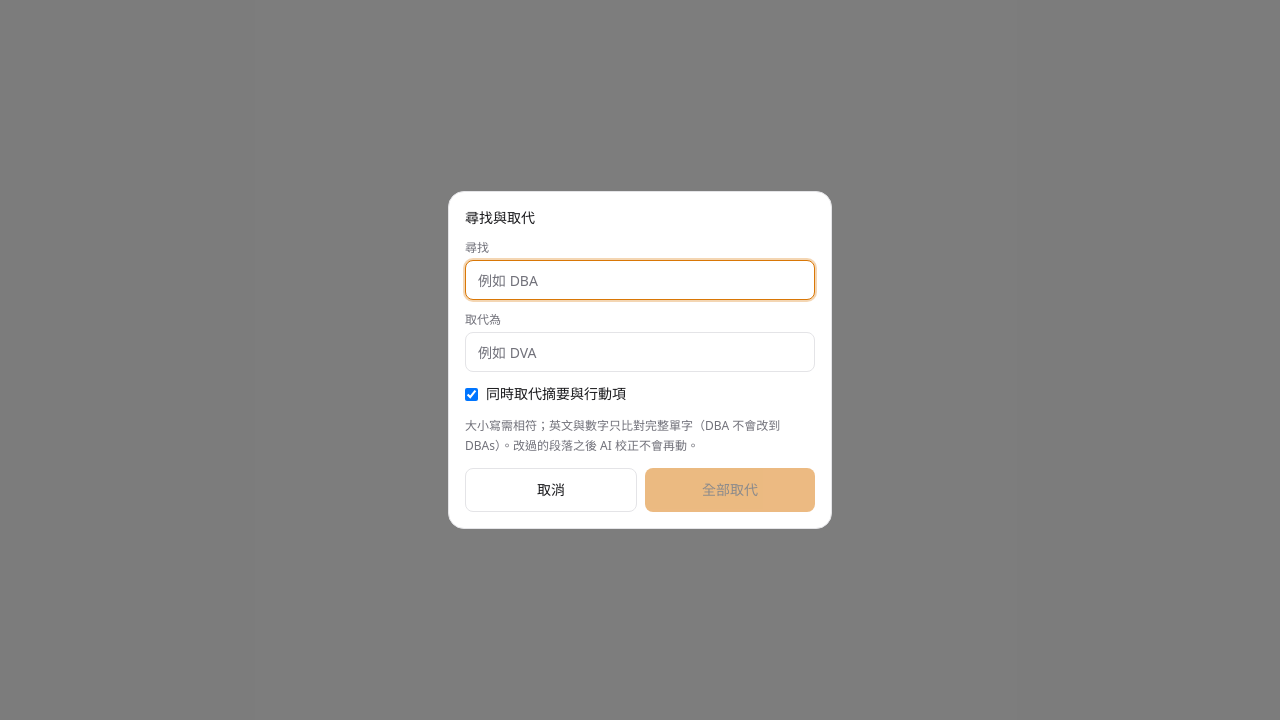
Test case: TranscriptReplaceSheet › 沒有符合時顯示提示且不能送出
Step 1. Type "XYZ" into the field labelled "尋找" → (640, 280), box [465,260,815,300]
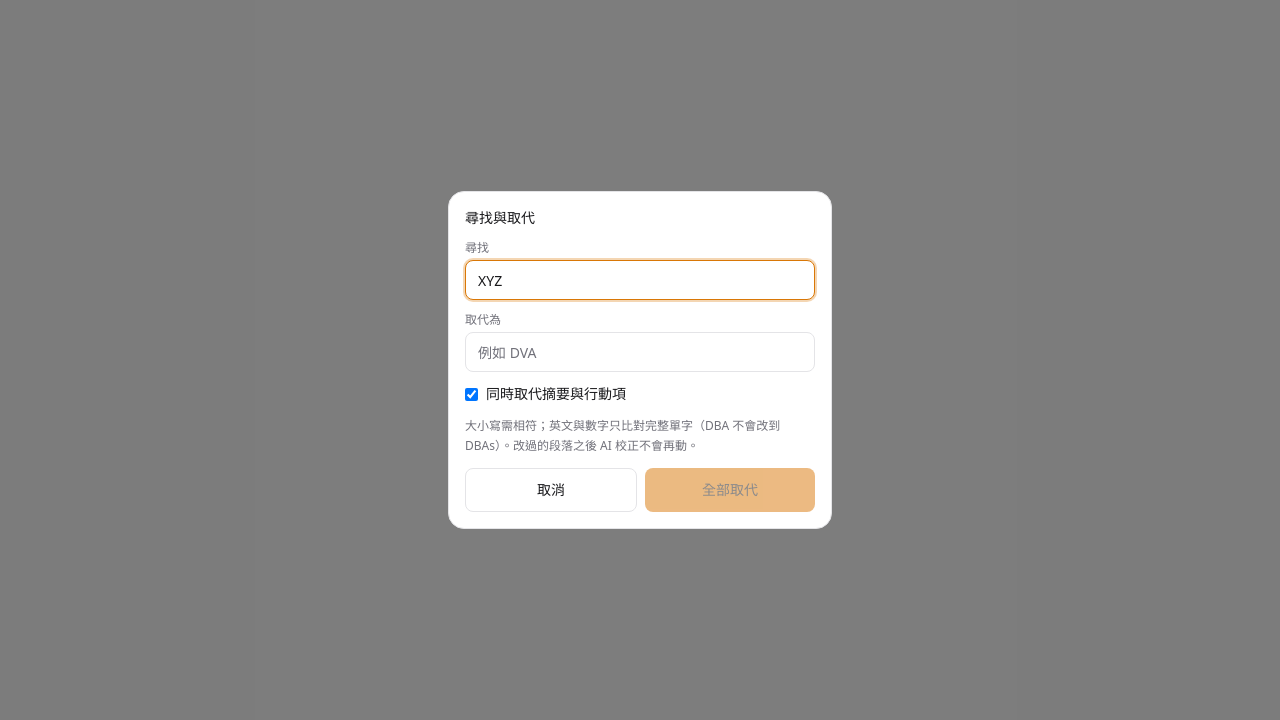
Step 2. Type "ABC" into the field labelled "取代為" → (640, 352), box [465,332,815,372]
Wait 500 ms
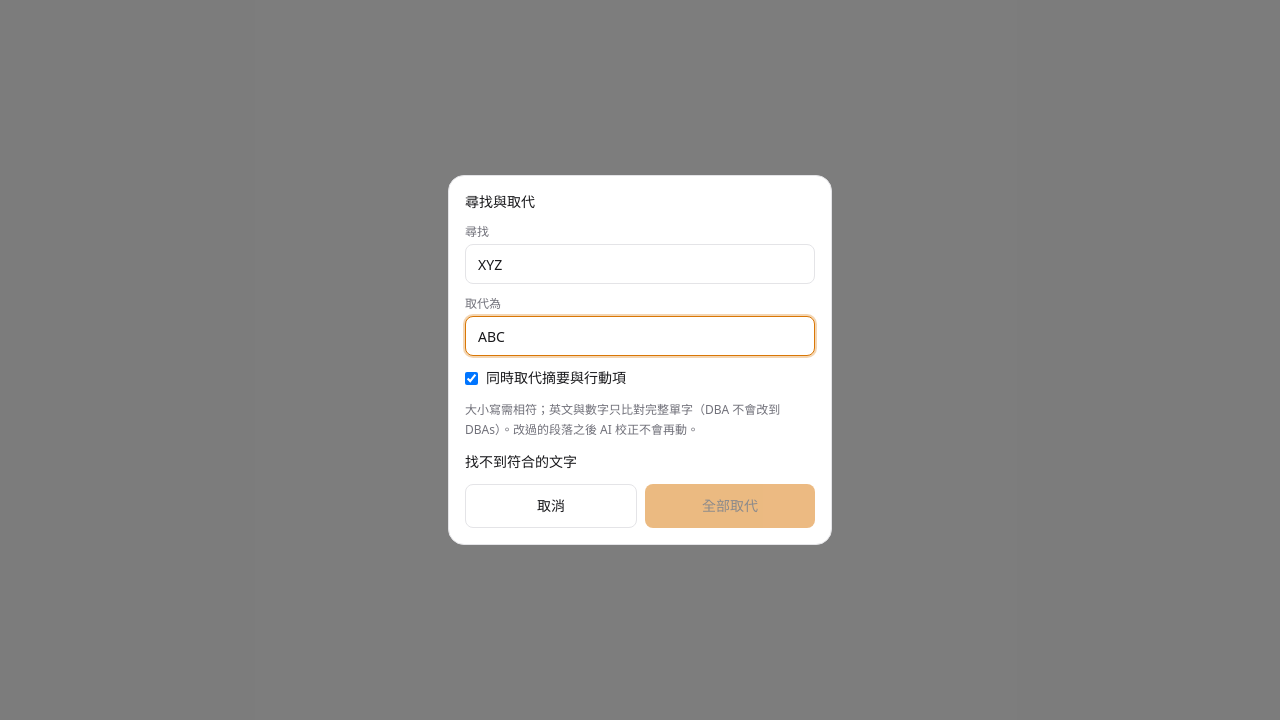
Expected: the button "全部取代" is disabled, [645,484,815,528]
Expected: the text "找不到符合的文字" is shown, [465,452,577,471]
